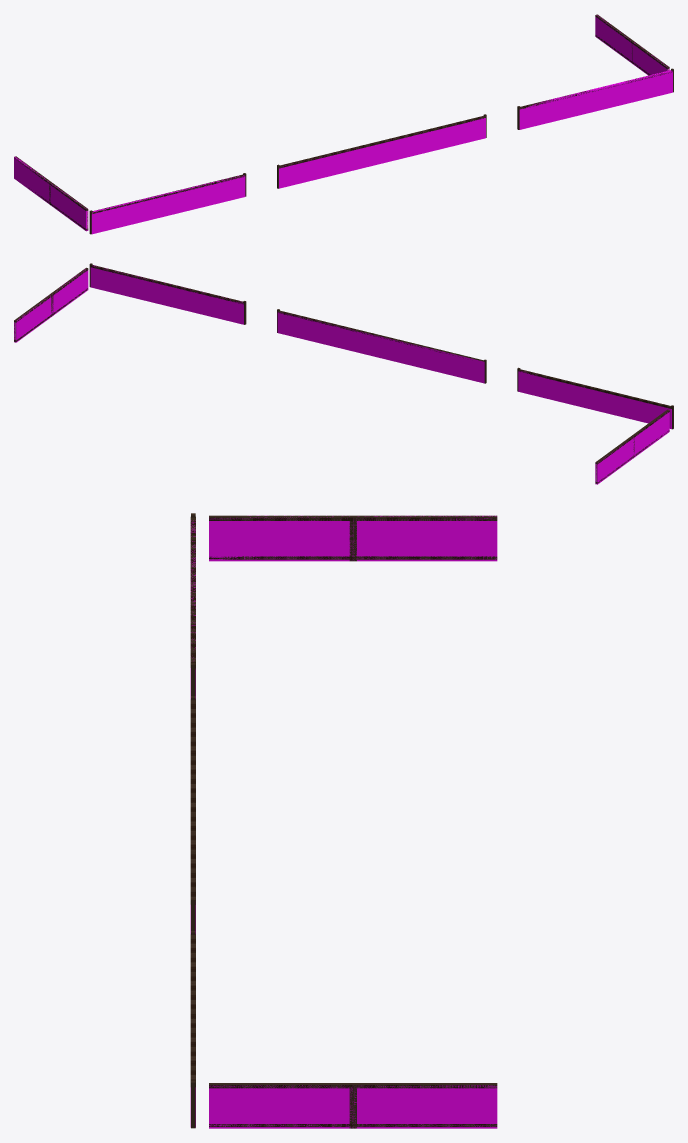
File: pagar.glb
3 views of the same model, one above another, from view 1: azimuth 30°, elevation 25°; view 2: azimuth 150°, elevation 25°; view 3: azimuth 270°, elevation 25° (orthographic). The views are drawn at different scales.
Parts seen in each view (by area): view 1: col_pagar_depan_1, col_pagar_depan_2, col_pagar_depan_0, pagar_kayu, col_pagar_kiri, col_pagar_kanan, pagar_sisi_kiri_kayu, pagar_sisi_kanan_kayu; view 2: col_pagar_depan_1, col_pagar_depan_2, col_pagar_depan_0, pagar_kayu, col_pagar_kanan, col_pagar_kiri, pagar_sisi_kanan_kayu, pagar_sisi_kiri_kayu; view 3: col_pagar_kiri, col_pagar_kanan, pagar_kayu, pagar_sisi_kiri_kayu, pagar_sisi_kanan_kayu.
Part boxes in pixels (x1,y1,x2,y2): col_pagar_depan_1: [279, 118, 485, 188]; col_pagar_depan_2: [519, 70, 672, 129]; col_pagar_depan_0: [91, 175, 245, 234]; pagar_kayu: [89, 68, 673, 234]; col_pagar_kiri: [14, 156, 88, 231]; col_pagar_kanan: [595, 15, 669, 75]; pagar_sisi_kiri_kayu: [14, 156, 88, 230]; pagar_sisi_kanan_kayu: [595, 14, 669, 75]; col_pagar_depan_1: [277, 312, 484, 383]; col_pagar_depan_2: [90, 265, 243, 324]; col_pagar_depan_0: [518, 370, 671, 429]; pagar_kayu: [89, 263, 673, 429]; col_pagar_kanan: [14, 269, 88, 342]; col_pagar_kiri: [595, 412, 669, 484]; pagar_sisi_kanan_kayu: [14, 267, 88, 341]; pagar_sisi_kiri_kayu: [595, 409, 669, 483]; col_pagar_kiri: [209, 515, 497, 561]; col_pagar_kanan: [209, 1085, 497, 1128]; pagar_kayu: [190, 513, 195, 1128]; pagar_sisi_kiri_kayu: [209, 515, 497, 561]; pagar_sisi_kanan_kayu: [209, 1083, 497, 1128].
Bounding box in the file's own units: 30.32 × 1.14 × 6.9.
3 materials, 2 textured.
